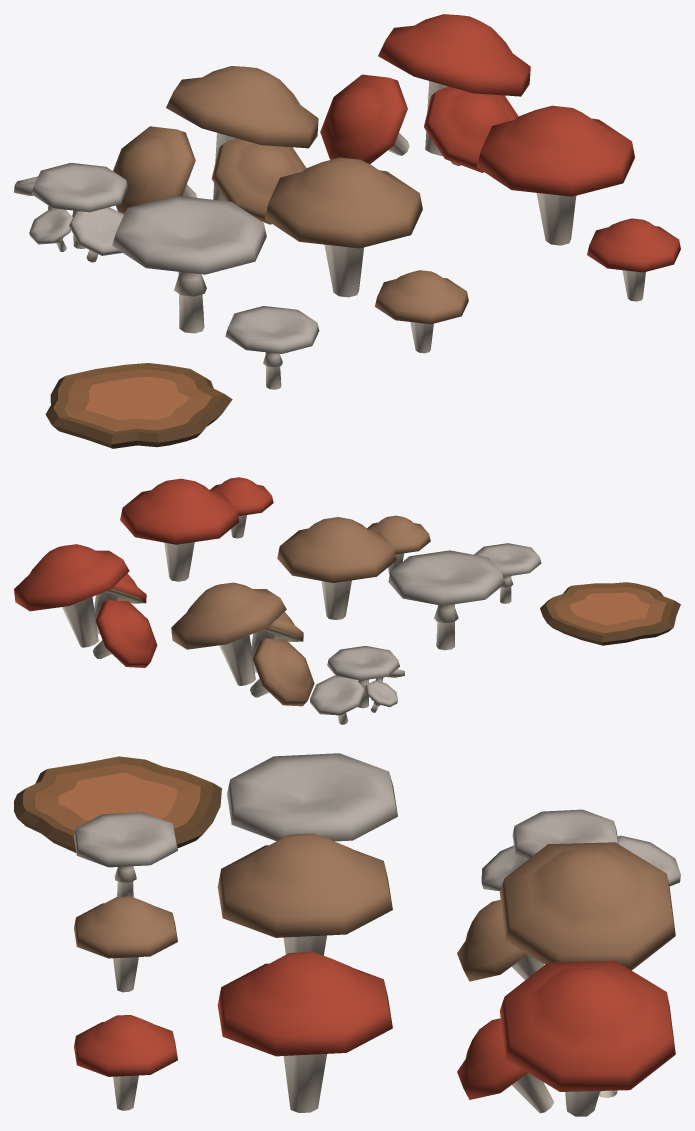
Rendered from Hongos.fbx.
3 renders of one model, top to bottom at view 1: azimuth 30°, elevation 25°; view 2: azimuth 150°, elevation 25°; view 3: azimuth 270°, elevation 25°, orthographic. The views are drawn at different scales.
Visible parts, largest first — view 1: Circle.002, Circle.006, Circle.001, Circle.005, Circle, Circle.008, Circle.009, Circle.004, Circle.003, Circle.007; view 2: Circle.002, Circle.006, Circle, Circle.005, Circle.001, Circle.008, Circle.009, Circle.007, Circle.004, Circle.003; view 3: Circle.002, Circle.006, Circle.001, Circle.005, Circle.008, Circle, Circle.003, Circle.004, Circle.009, Circle.007.
Part boxes in pixels (x1,y1,x2,y2): Circle.002: (320, 14, 530, 172); Circle.006: (113, 66, 318, 224); Circle.001: (477, 105, 634, 245); Circle.005: (264, 157, 422, 297); Circle: (45, 363, 232, 448); Circle.008: (112, 195, 266, 333); Circle.009: (14, 163, 128, 262); Circle.004: (587, 218, 680, 301); Circle.003: (375, 270, 468, 353); Circle.007: (225, 306, 319, 389); Circle.002: (14, 544, 157, 667); Circle.006: (171, 582, 314, 706); Circle: (540, 582, 680, 645); Circle.005: (277, 517, 396, 619); Circle.001: (120, 478, 239, 581); Circle.008: (388, 550, 504, 650); Circle.009: (310, 646, 404, 724); Circle.007: (474, 543, 541, 603); Circle.004: (210, 477, 273, 538); Circle.003: (367, 515, 430, 574); Circle.002: (457, 960, 675, 1116); Circle.006: (457, 842, 675, 981); Circle.001: (217, 952, 392, 1112); Circle.005: (217, 833, 392, 955); Circle.008: (227, 753, 397, 841); Circle: (14, 756, 221, 852); Circle.003: (74, 896, 177, 992); Circle.004: (74, 1015, 177, 1110); Circle.009: (481, 809, 680, 891); Circle.007: (74, 812, 177, 897).
Bounding box in the file's own units: 93.27 × 17.82 × 70.04.
